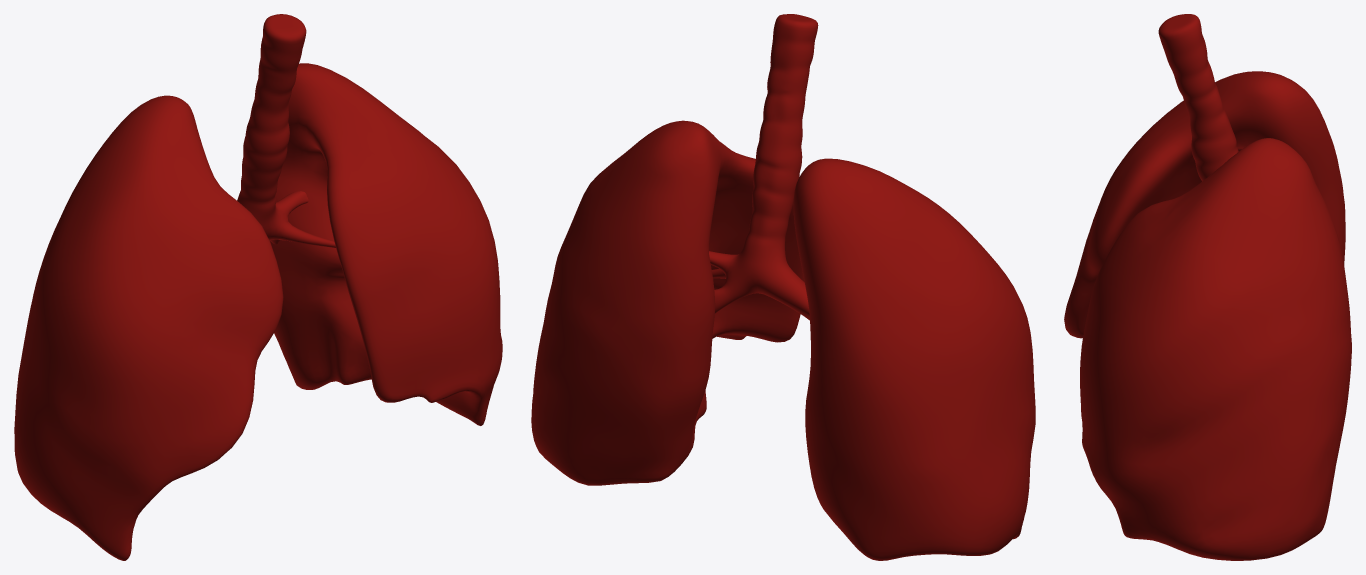
Rendered from severo2_lungs.glb.
3 views of the same model, side by side, from view 1: azimuth 30°, elevation 25°; view 2: azimuth 150°, elevation 25°; view 3: azimuth 270°, elevation 25° (orthographic). The views are drawn at different scales.
Visible parts, largest first — view 1: 0; view 2: 0; view 3: 0.
Boxes of the visible parts, x1=… form: 0: x1=14, y1=14, x2=502, y2=560; 0: x1=531, y1=14, x2=1035, y2=560; 0: x1=1064, y1=14, x2=1351, y2=560.
Bounding box in the file's own units: 0.4734 × 0.481 × 0.2591.
